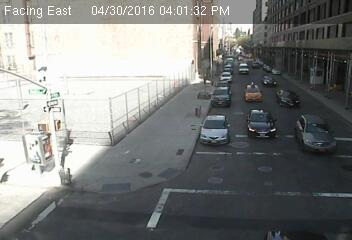neg: (115, 112, 138, 142), (115, 109, 137, 138), (293, 68, 314, 95), (127, 110, 146, 136), (186, 124, 204, 148), (139, 110, 152, 127), (174, 73, 184, 87), (162, 83, 172, 95), (227, 58, 236, 71), (156, 97, 165, 109), (278, 56, 283, 63), (265, 60, 269, 66)
